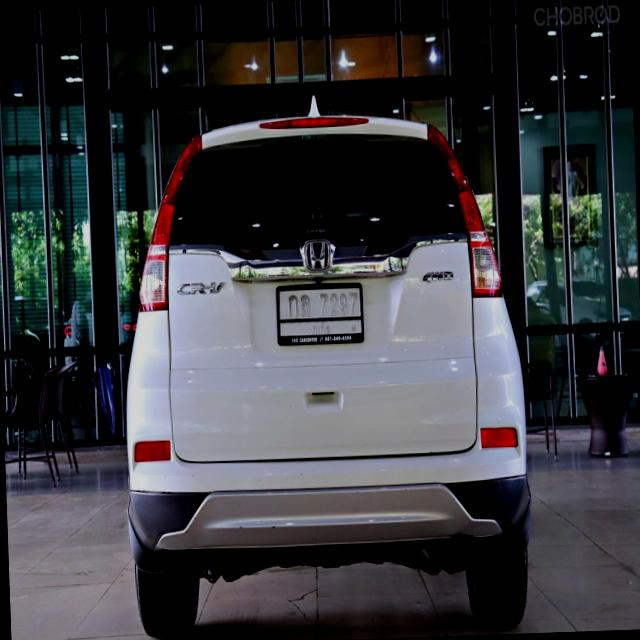license_plate: (276, 278, 366, 348)
